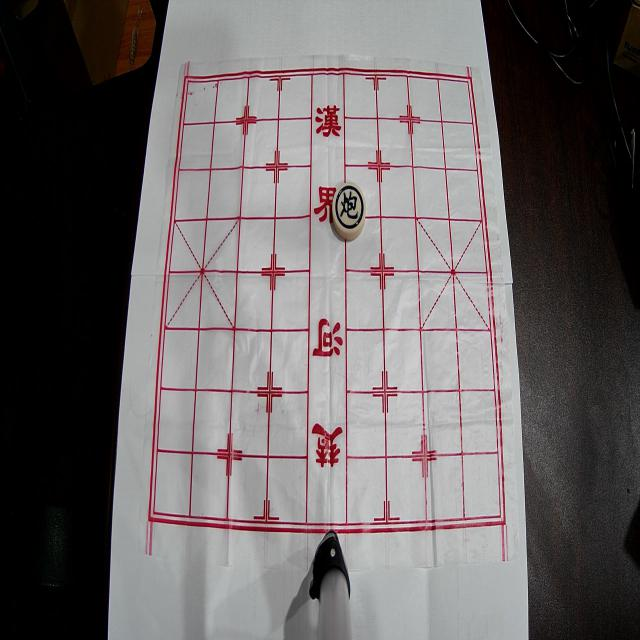black-cannon: (332, 182, 366, 240)
